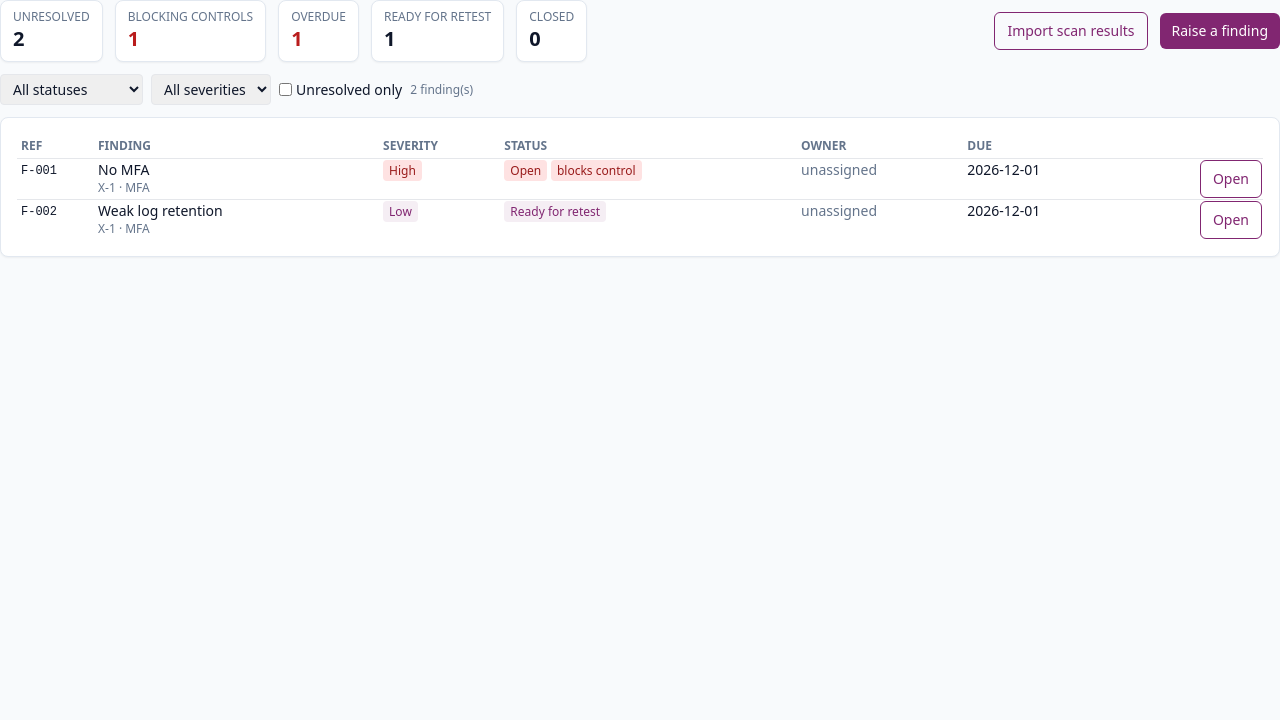
Test: managers can pick an owner, and only client-side members are offered
Click the button "Raise a finding" at {"x": 1220, "y": 31}, box x1=1160 y1=13 x2=1279 y2=49
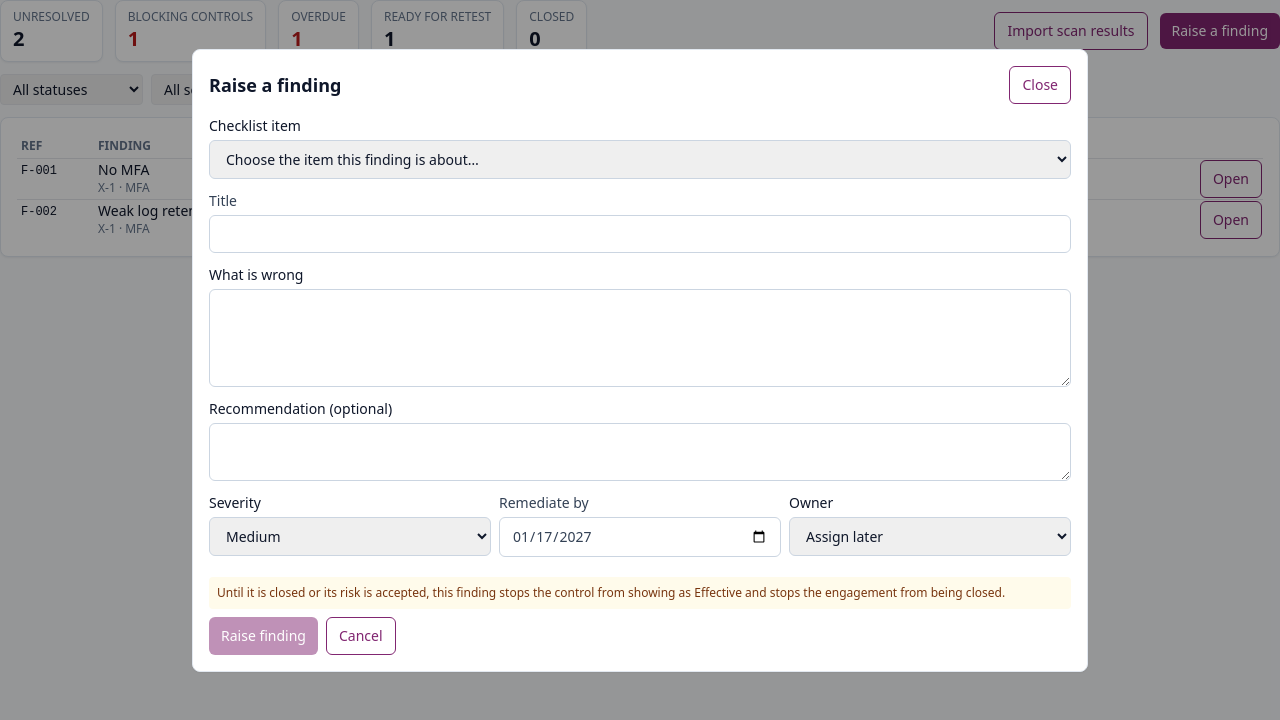
Expected: the dropdown labelled "Owner" is shown, x1=789 y1=516 x2=1071 y2=556
